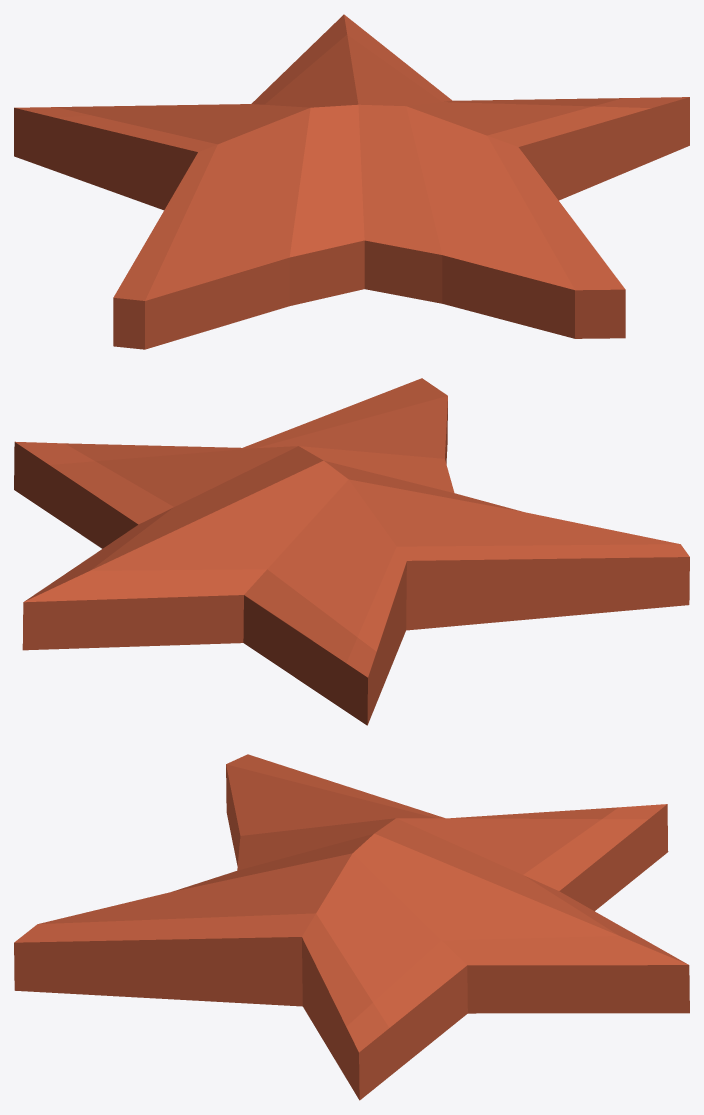
File: star_ocean.fbx
3 views of the same model, one above another, from view 1: azimuth 30°, elevation 25°; view 2: azimuth 150°, elevation 25°; view 3: azimuth 270°, elevation 25° (orthographic). The views are drawn at different scales.
Parts seen in each view (by area): view 1: star_ocean; view 2: star_ocean; view 3: star_ocean.
Boxes of the visible parts, bbox=[...] form: star_ocean: bbox=[14, 14, 689, 349]; star_ocean: bbox=[14, 378, 689, 725]; star_ocean: bbox=[14, 754, 689, 1100].
Bounding box in the file's own units: 248 × 44.81 × 234.
1 material, 1 textured.
